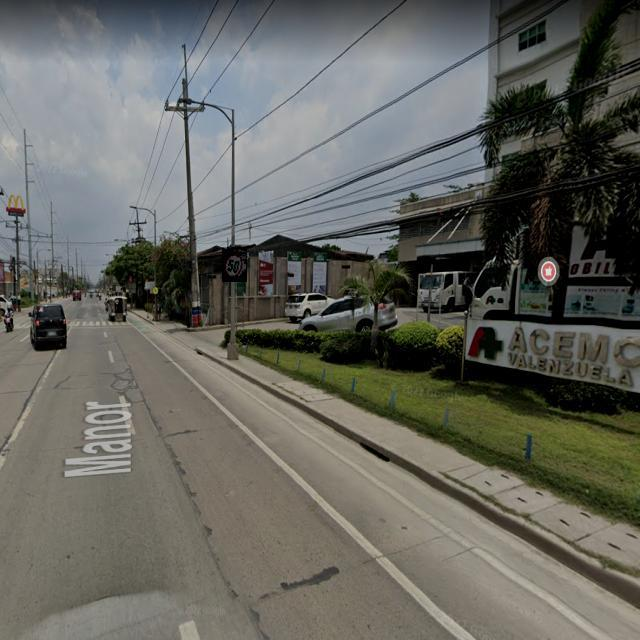50 kph: (222, 247, 247, 282)
